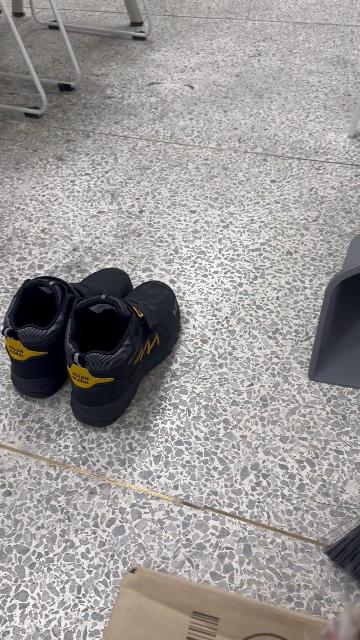shoe_worn: (67, 279, 184, 427), (5, 267, 133, 401)
